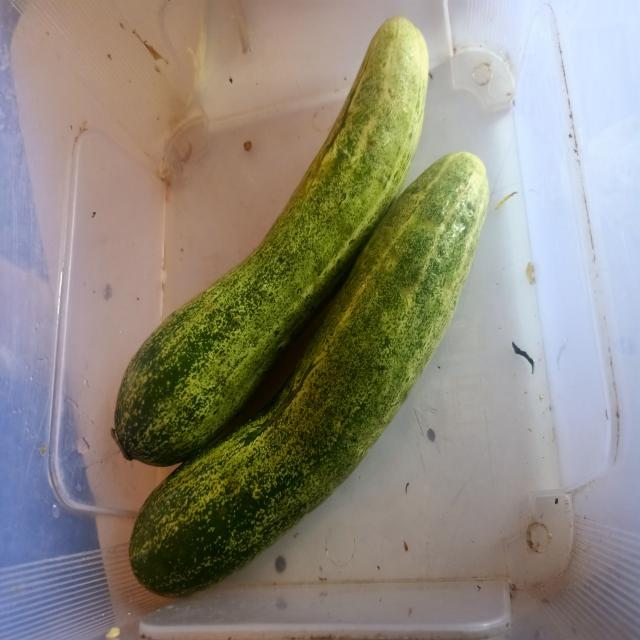Cucumber: (129, 151, 489, 596), (114, 15, 429, 466)
